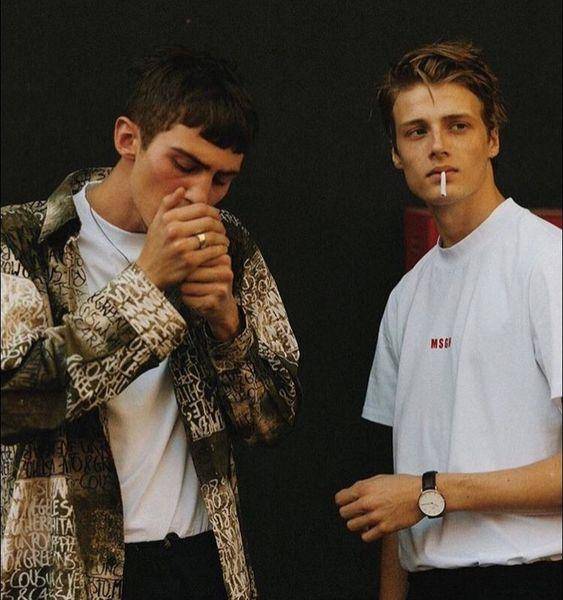cigarette: (441, 171, 446, 197)
